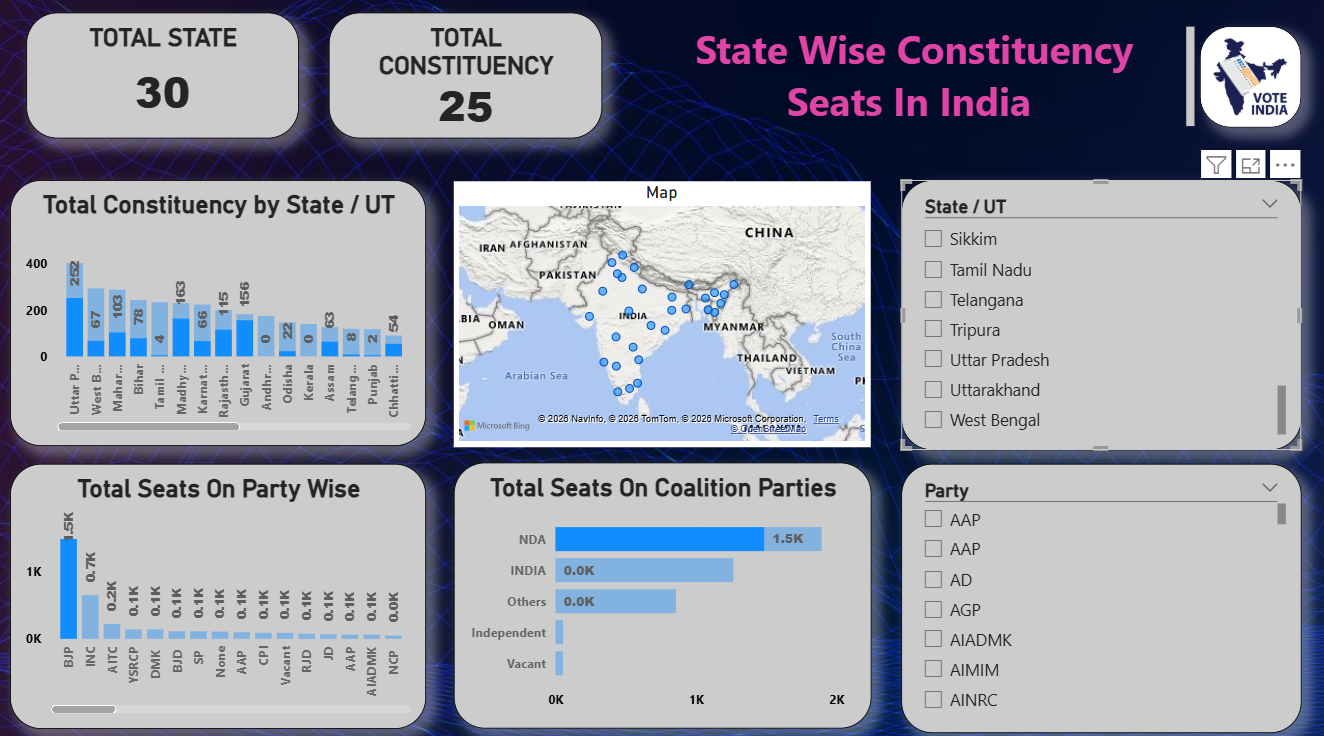

The page's visual inventory and layout, read from the dashboard file:
{"tool":"powerbi","page":{"name":"Page 1","canvas":[1280,720],"ordinal":0},"visuals":[{"type":"card","title":"TOTAL STATE","fields":{"Values":["Count(Data.State / UT)"]},"box":[792.6,32.6,226.8,105],"z":0},{"type":"card","title":"TOTAL CONTITUENCY","fields":{"Values":["Count(Data.Total Constituency)"]},"box":[1042.4,32.6,228,103.8],"z":1000},{"type":"columnChart","title":"Total Constituency by State / UT","fields":{"Category":["Data.State / UT"],"Y":["Sum(Data.Total Constituency)"]},"box":[279.9,152.3,477.5,259.3],"z":2000},{"type":"map","fields":{"Category":["Data.State / UT"]},"box":[793.1,152.3,477.5,259.3],"z":3000},{"type":"columnChart","title":"TOTAL SEATS ON PARTY WISE","fields":{"Y":["Sum(Data.Total Constituency)"],"Category":["Data.Party"]},"box":[279.9,435,477.5,256.6],"z":4000},{"type":"clusteredBarChart","title":"TOTAL SEATS ON COALITION PARTIES","fields":{"Category":["Data.NDA / INDI"],"Y":["Sum(Data.Total Constituency)"]},"box":[793.1,435,477.5,256.6],"z":5000},{"type":"slicer","fields":{"Values":["Data.State / UT"]},"box":[34.3,152.3,223.7,259.3],"z":6000},{"type":"slicer","fields":{"Values":["Data.Party"]},"box":[35.7,432.2,223.7,259.3],"z":7000},{"type":"textbox","box":[237.4,13.7,544.8,138.6],"z":8000},{"type":"image","box":[33.8,13.3,167.7,124.3],"z":9000}]}

Visuals, with their boxes in screenshot pixels (x1, y1, x2, y2), scaled from the page's 1280x720 canvas onto the 1324x736 screenshot:
"TOTAL STATE" card: BBox(820, 33, 1054, 141)
"TOTAL CONTITUENCY" card: BBox(1078, 33, 1314, 139)
"Total Constituency by State / UT" columnChart: BBox(290, 156, 783, 421)
map - Data.State / UT: BBox(820, 156, 1314, 421)
"TOTAL SEATS ON PARTY WISE" columnChart: BBox(290, 445, 783, 707)
"TOTAL SEATS ON COALITION PARTIES" clusteredBarChart: BBox(820, 445, 1314, 707)
slicer - Data.State / UT: BBox(35, 156, 267, 421)
slicer - Data.Party: BBox(37, 442, 268, 707)
textbox: BBox(246, 14, 809, 156)
image: BBox(35, 14, 208, 141)
